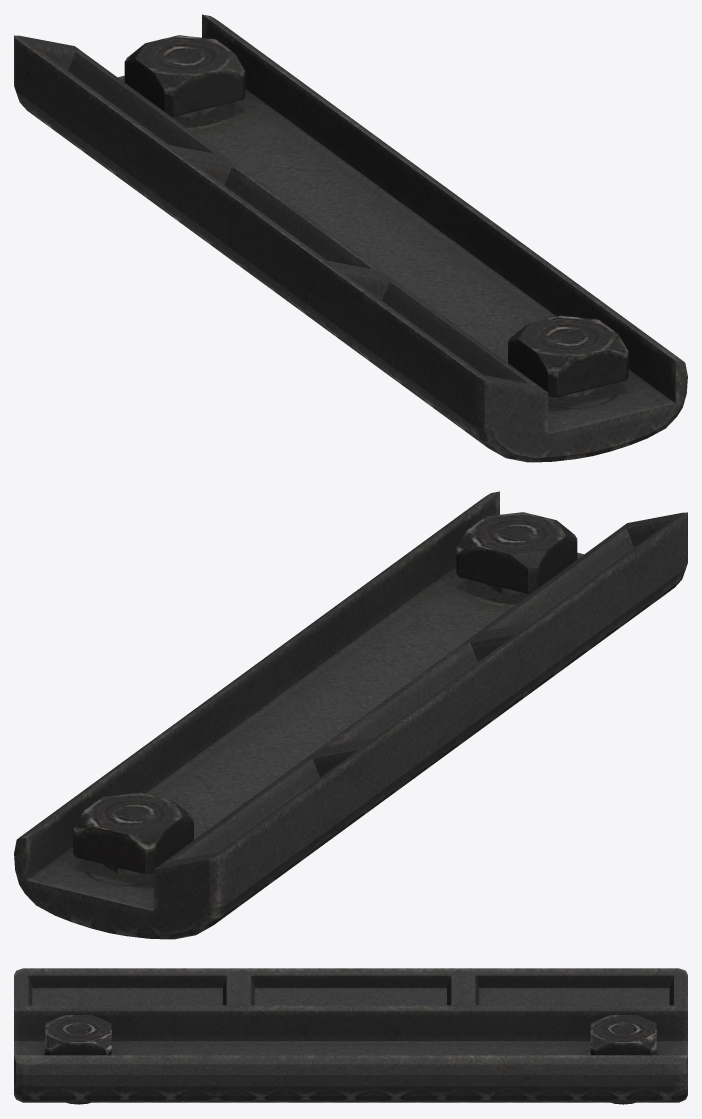
3 views of the same model, one above another, from view 1: azimuth 30°, elevation 25°; view 2: azimuth 150°, elevation 25°; view 3: azimuth 270°, elevation 25° (orthographic). The views are drawn at different scales.
Parts seen in each view (by area): view 1: TW_5d123a3cd7ad1a004e476058_PZ_Import; view 2: TW_5d123a3cd7ad1a004e476058_PZ_Import; view 3: TW_5d123a3cd7ad1a004e476058_PZ_Import.
Boxes of the visible parts, x1,y1,x2,y2 form: TW_5d123a3cd7ad1a004e476058_PZ_Import: (14, 14, 687, 462); TW_5d123a3cd7ad1a004e476058_PZ_Import: (14, 491, 687, 939); TW_5d123a3cd7ad1a004e476058_PZ_Import: (14, 968, 687, 1104).
Bounding box in the file's own units: 0.0145 × 0.0571 × 0.00759.
Materials: 1 (1 with a texture image).
